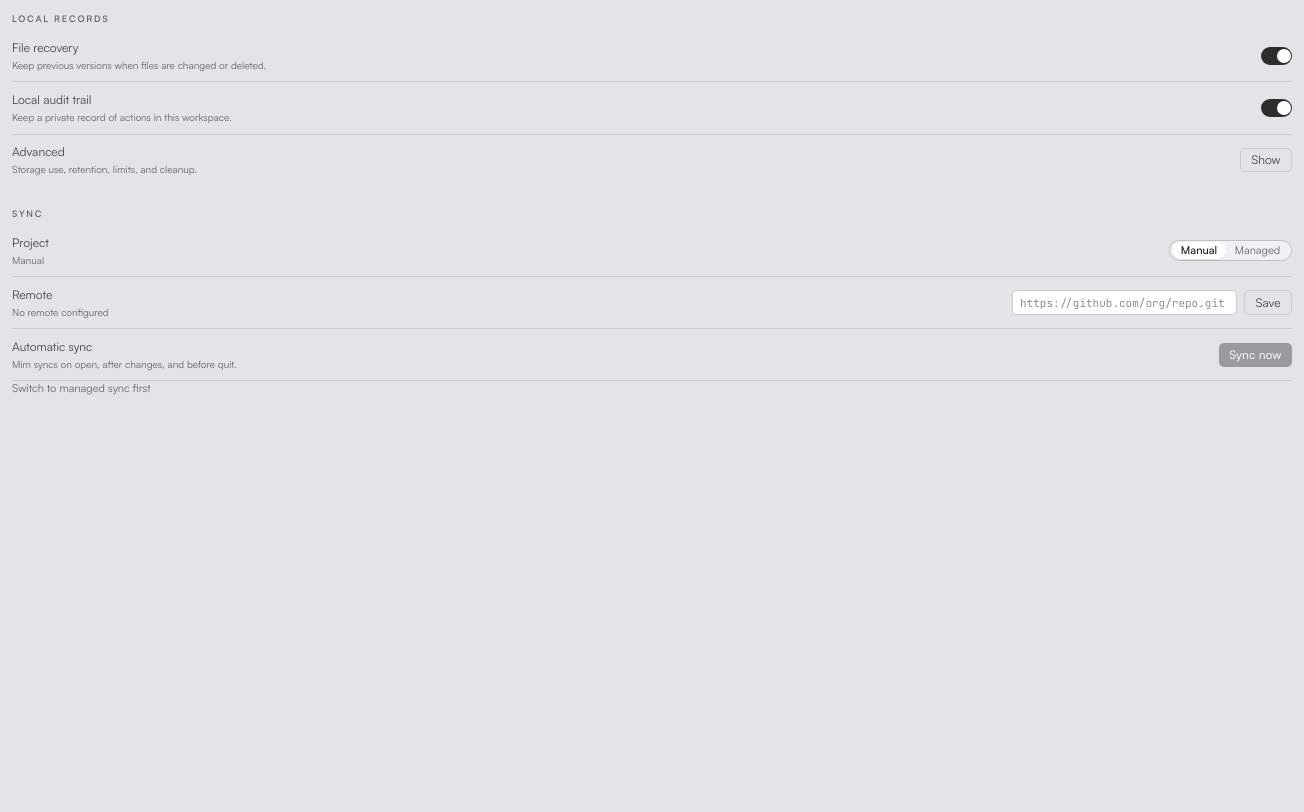
Scenario: StorageSettingsPanel › shows two plain-language toggles and hides technical controls by default
Expected: the text "History budget" is not shown
Expected: the text "Audit retention" is not shown
Click the button "Show" at (1266, 160), box [1240,148,1292,172]
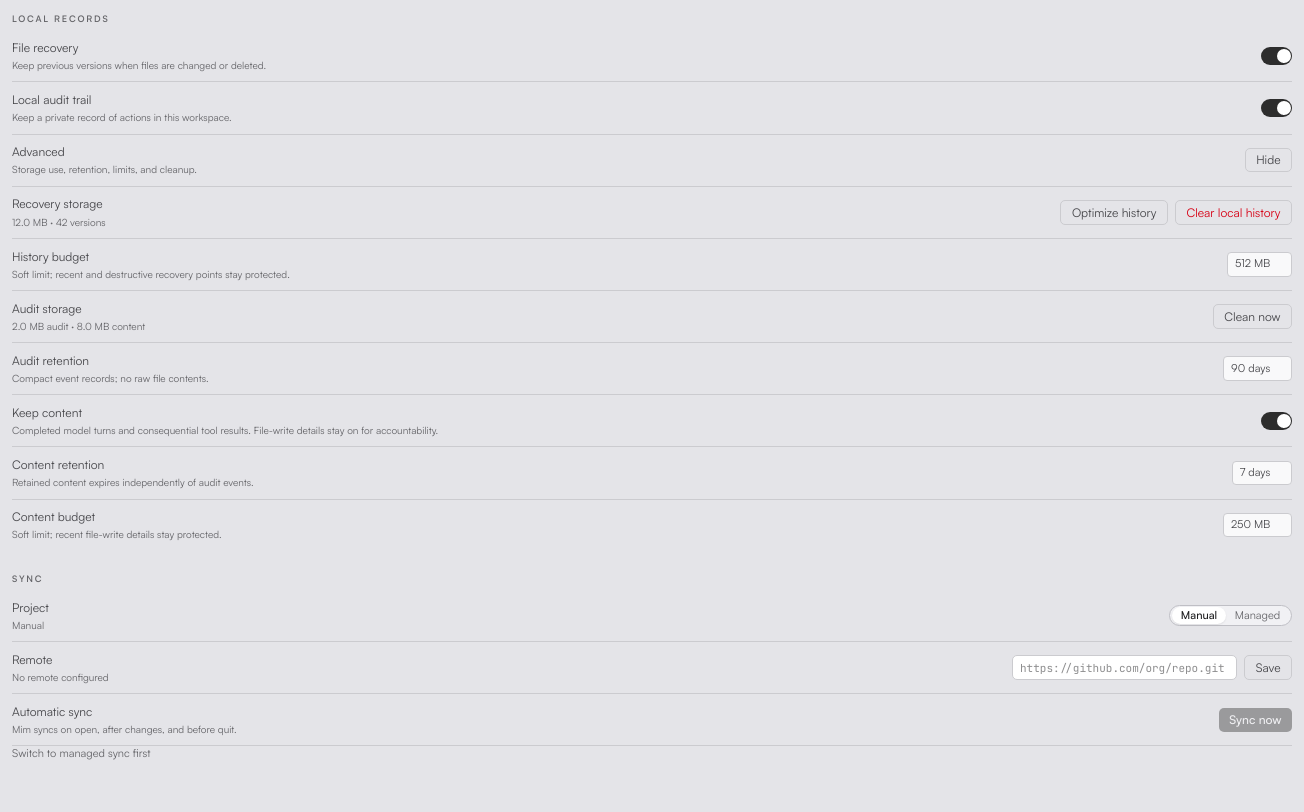
Now the text "12.0 MB · 42 versions" is shown, box [12,215,106,229]
Now the text "2.0 MB audit · 8.0 MB content" is shown, box [12,319,145,333]
Now the text "History budget" is shown, box [12,249,89,264]
